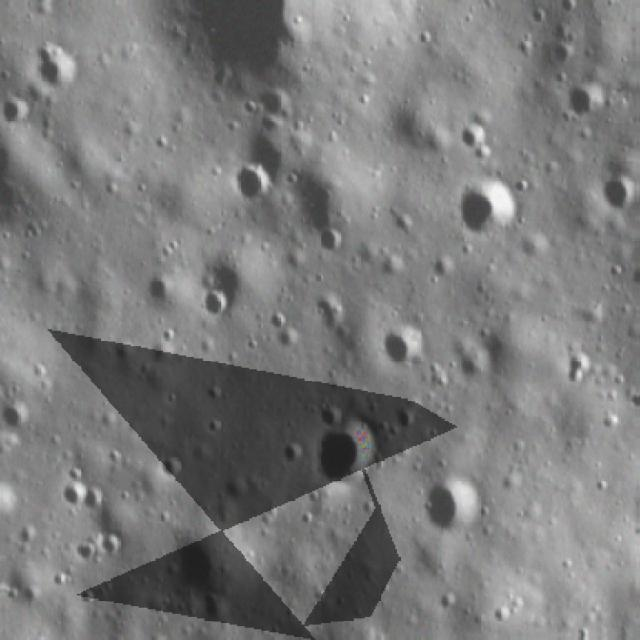crater: (306, 416, 388, 487), (23, 32, 99, 102), (450, 175, 518, 243), (422, 470, 486, 532), (223, 159, 283, 204), (378, 319, 431, 366), (590, 168, 635, 222), (562, 77, 604, 129), (58, 474, 110, 512), (72, 532, 126, 566), (198, 284, 237, 322), (154, 448, 186, 492), (9, 400, 34, 440)
